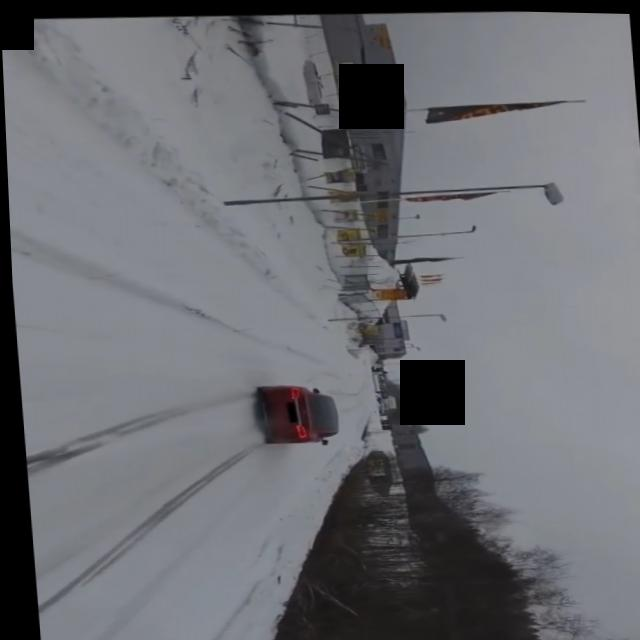Pole: (215, 176, 569, 218), (319, 306, 449, 330)
Vehicle: (247, 380, 337, 446)
